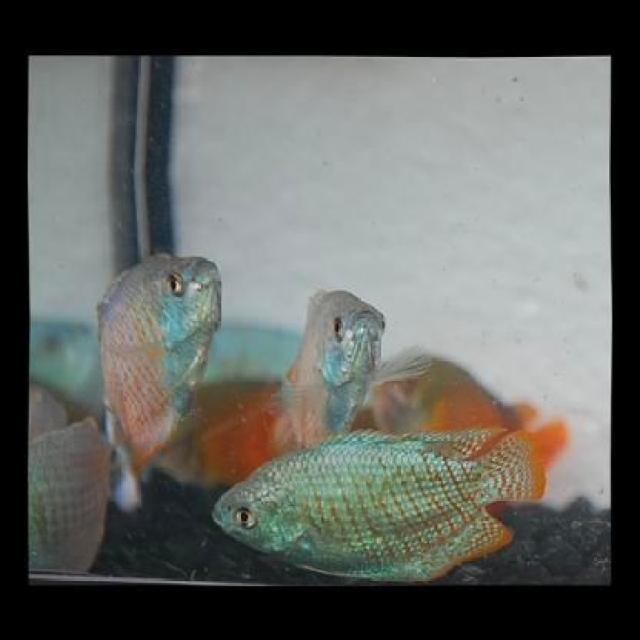Gourami: (214, 419, 549, 581), (94, 242, 228, 490)
